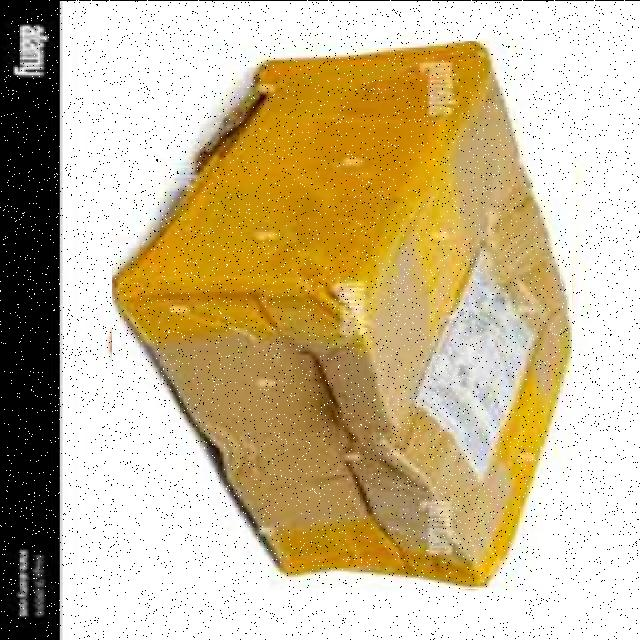defect: (111, 40, 571, 588)
